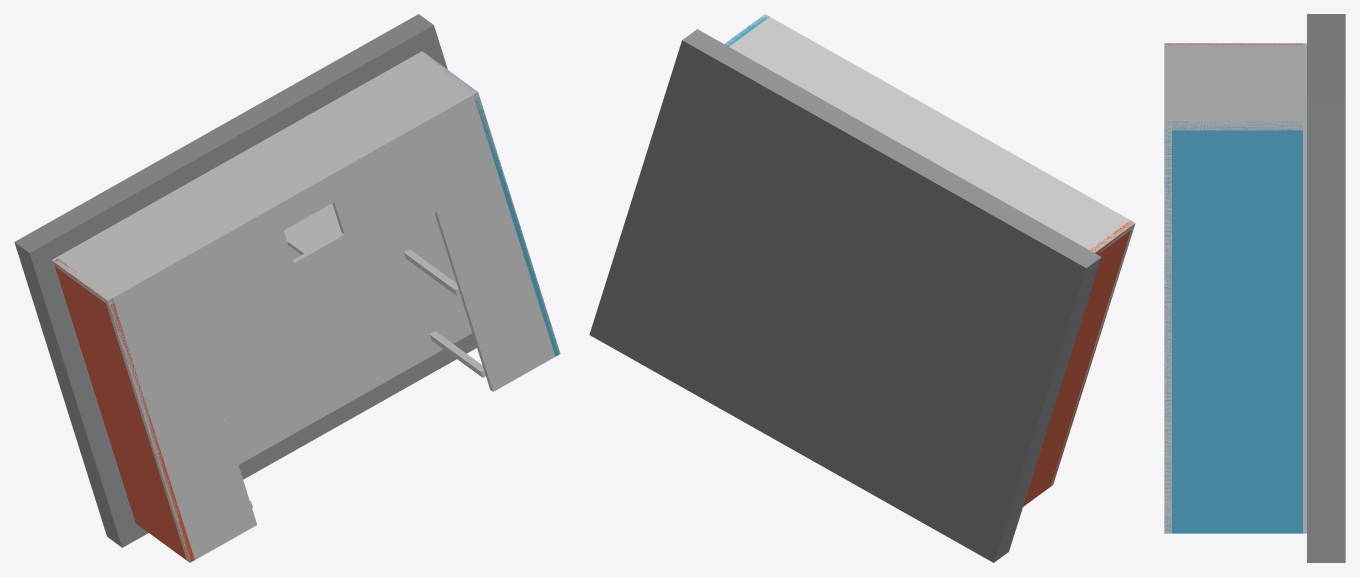
The model's file is earth-pavilion-held-out.gltf.
3 views of the same model, side by side, from view 1: azimuth 30°, elevation 25°; view 2: azimuth 150°, elevation 25°; view 3: azimuth 270°, elevation 25° (orthographic). The views are drawn at different scales.
Bounding box in the file's own units: 28.21 × 24.23 × 7.
